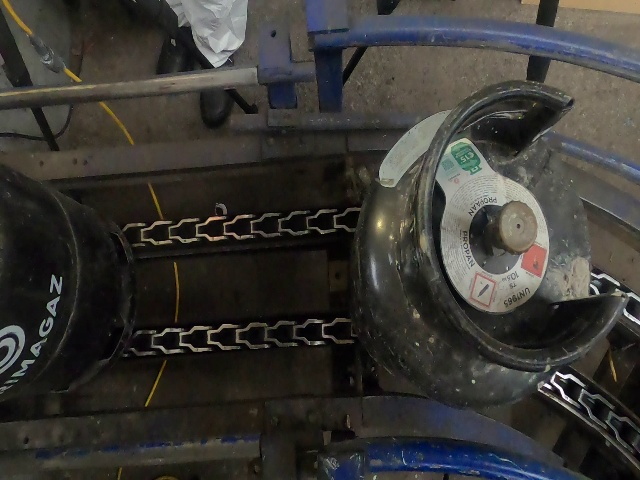gas_bottle: (4, 1, 628, 480)
